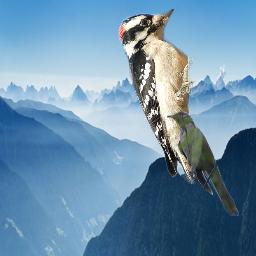Cuckoo: (167, 111, 241, 216)
Woodpecker: (118, 9, 196, 184)
